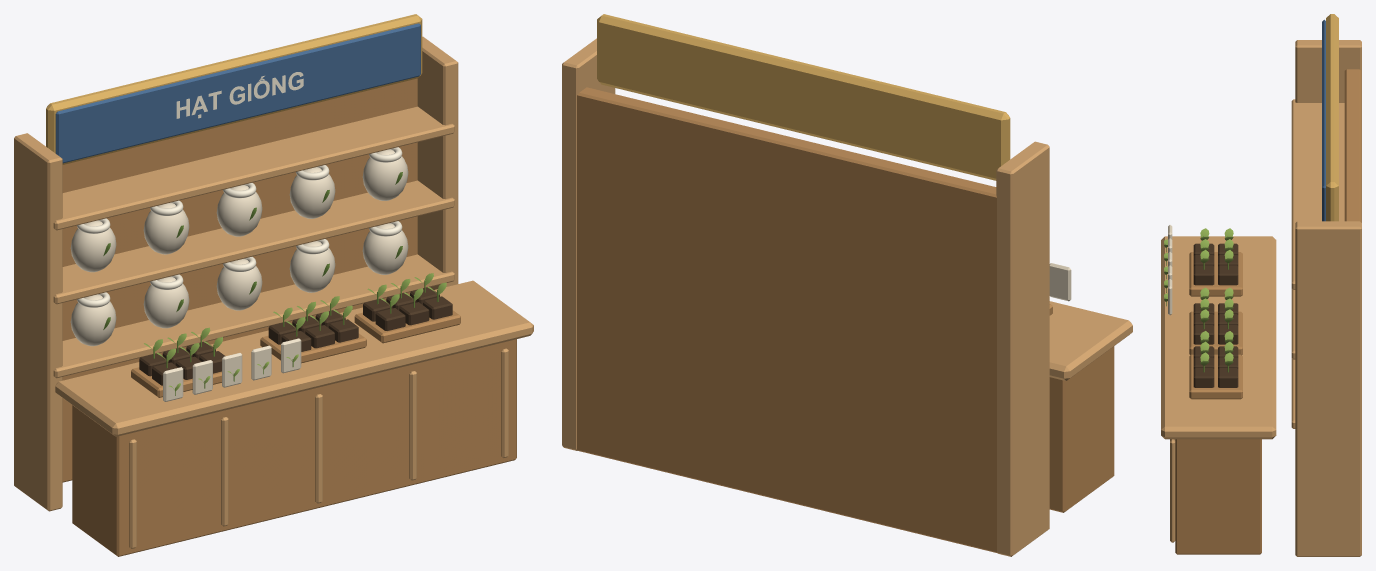
File: seed-stall.glb
The picture shows the model from 3 angles, left to right: view 1: azimuth 30°, elevation 25°; view 2: azimuth 150°, elevation 25°; view 3: azimuth 270°, elevation 25°; orthographic projection. The views are drawn at different scales.
Visible parts, largest first — view 1: seed_stall; view 2: seed_stall; view 3: seed_stall.
Part boxes in pixels (bbox=[...]): seed_stall: bbox=[14, 14, 533, 556]; seed_stall: bbox=[562, 14, 1132, 556]; seed_stall: bbox=[1161, 14, 1361, 556].
Size of the model in its own units: 3.58 by 3.16 by 1.57.
